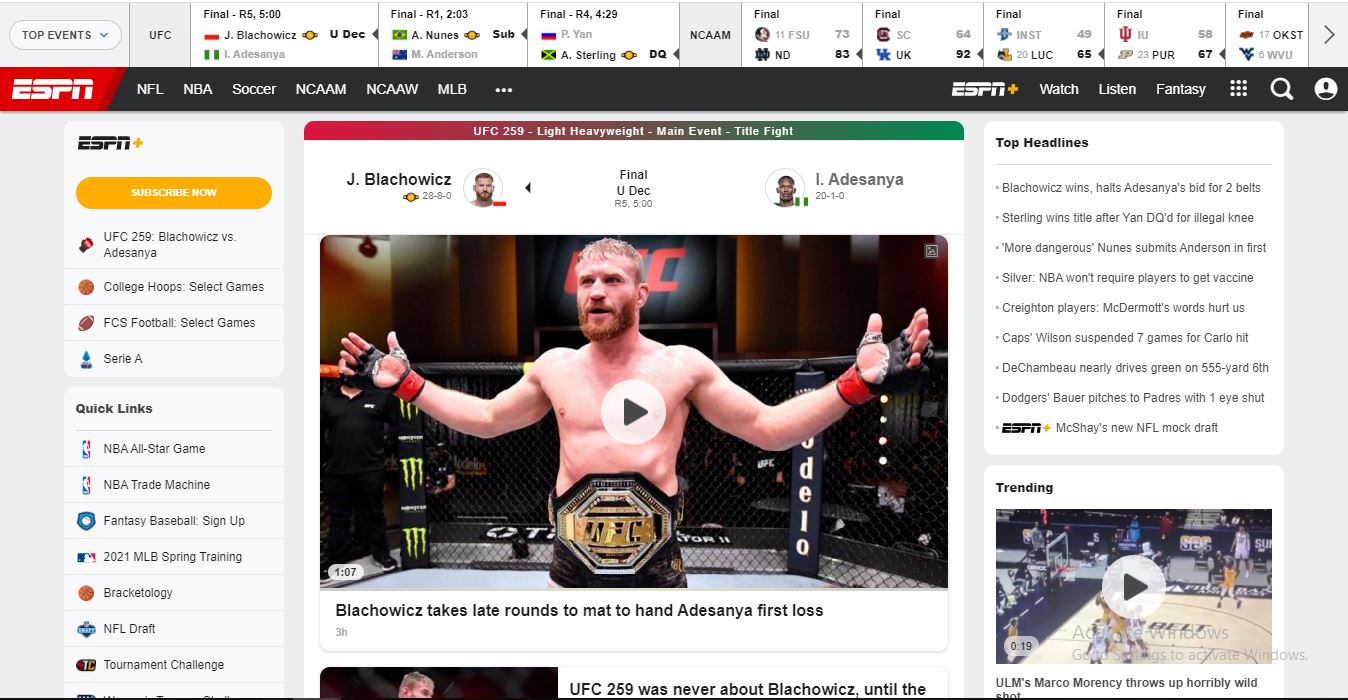Image: (324, 231, 949, 588), (0, 63, 118, 109)
Menu Bar: (123, 64, 532, 104)
Nav Bar: (944, 66, 1348, 114)
Side Bar: (982, 119, 1286, 455), (64, 389, 289, 695), (984, 469, 1281, 700), (65, 125, 284, 373)
